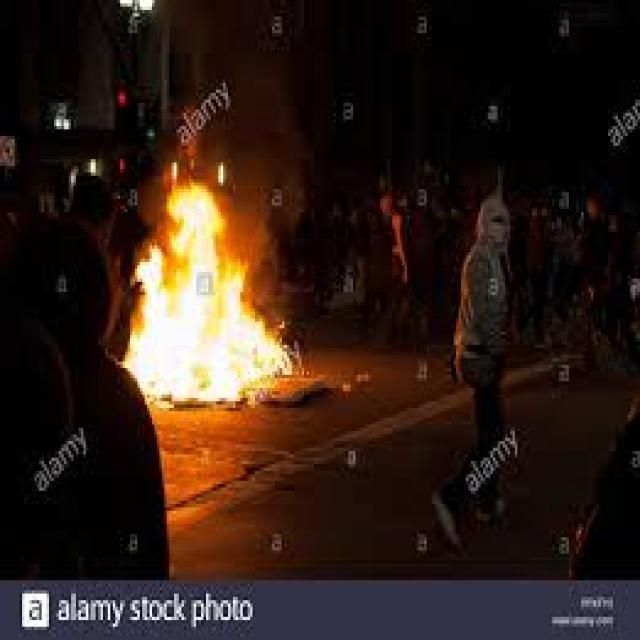Fire: (115, 162, 310, 414)
